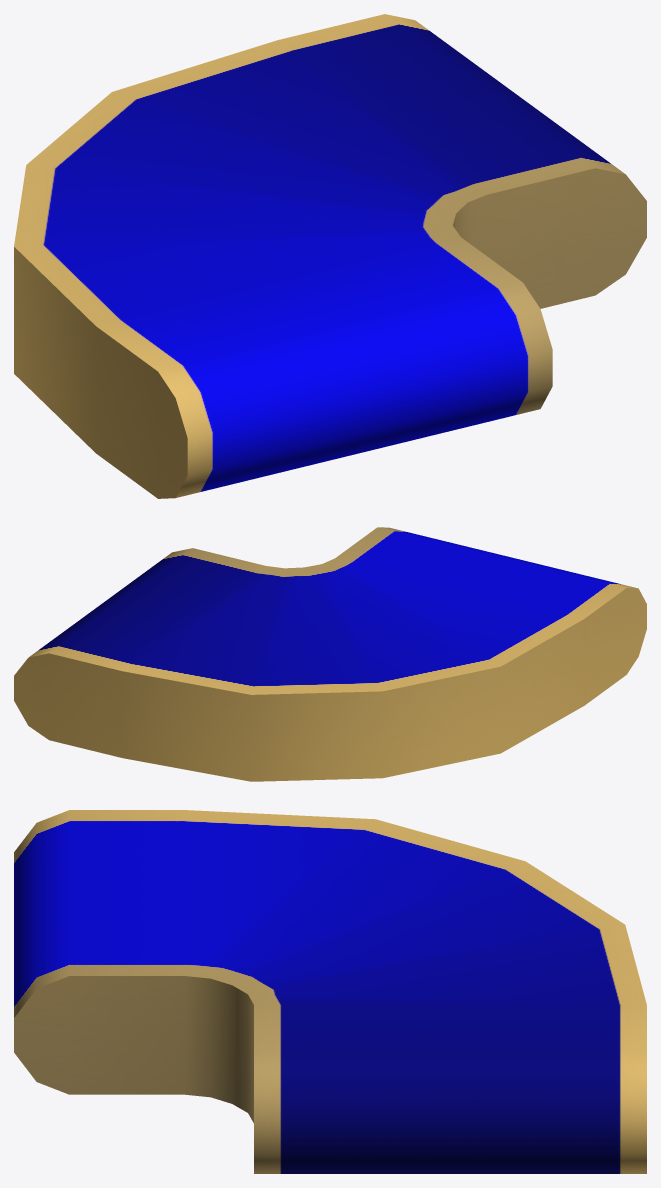
The model's file is conveyer2.glb.
3 renders of one model, top to bottom at view 1: azimuth 30°, elevation 25°; view 2: azimuth 150°, elevation 25°; view 3: azimuth 270°, elevation 25°, orthographic. The views are drawn at different scales.
Parts seen in each view (by area): view 1: Conveyer2; view 2: Conveyer2; view 3: Conveyer2.
Part boxes in pixels (x1=…): Conveyer2: x1=14, y1=14, x2=646, y2=498; Conveyer2: x1=14, y1=527, x2=646, y2=781; Conveyer2: x1=14, y1=810, x2=646, y2=1173.
Size of the model in its own units: 1.45 by 0.3 by 1.45.
Materials: 1 (1 with a texture image).
